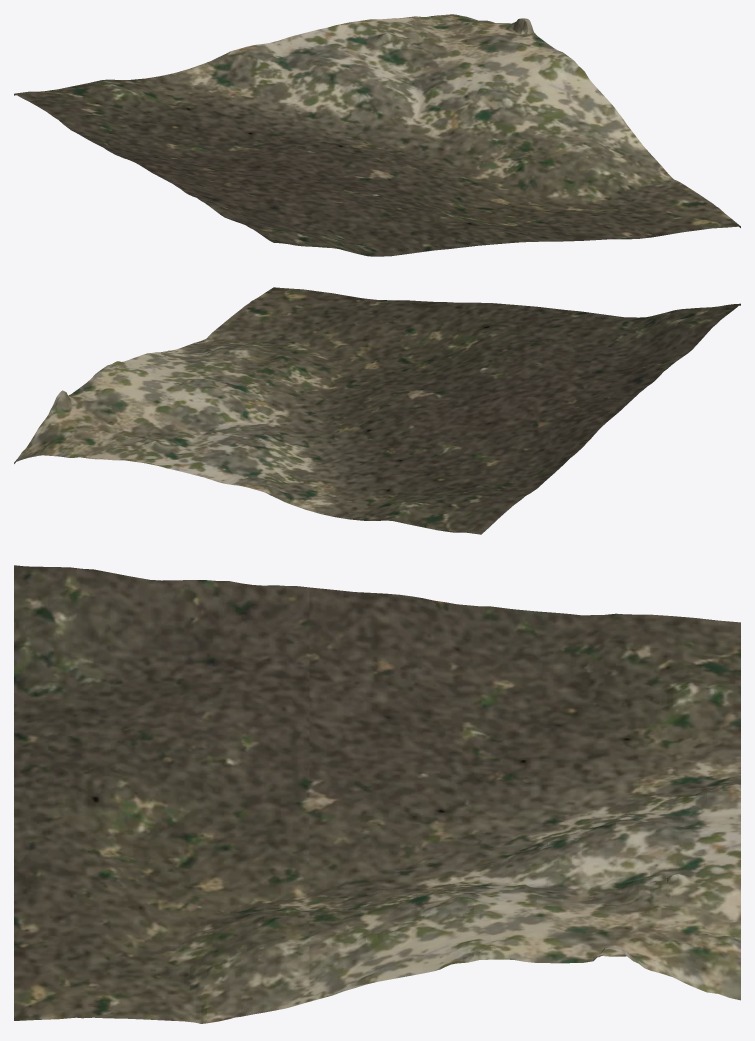
3 renders of one model, top to bottom at view 1: azimuth 30°, elevation 25°; view 2: azimuth 150°, elevation 25°; view 3: azimuth 270°, elevation 25°, orthographic. The views are drawn at different scales.
Size of the model in its own units: 250 by 51.99 by 241.
1 material, 1 textured.
